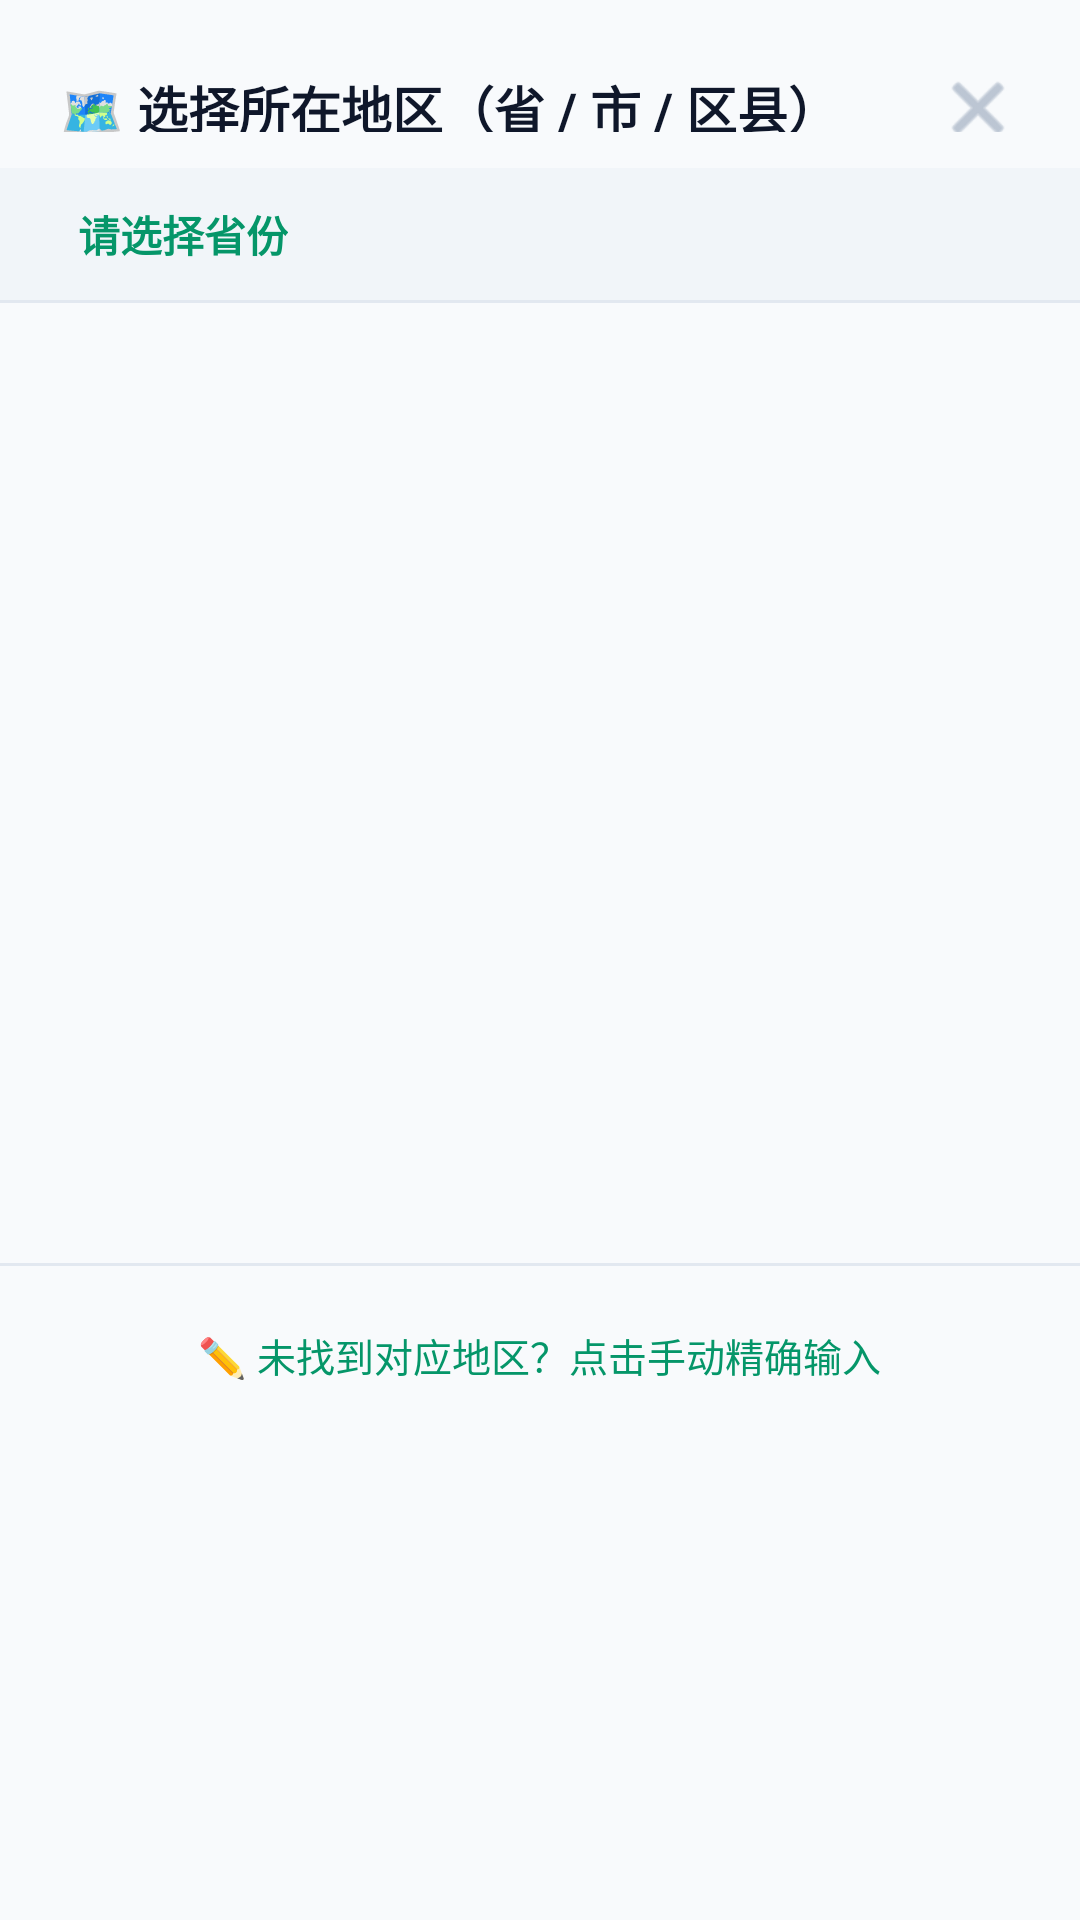

Where to tap for icons on this 1080×1920 app screen, as [x,y]:
关闭: [978,107]
